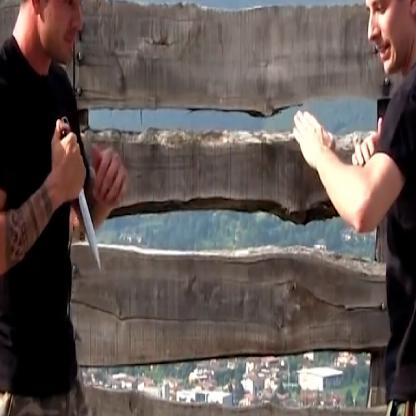knife: (52, 110, 102, 276)
